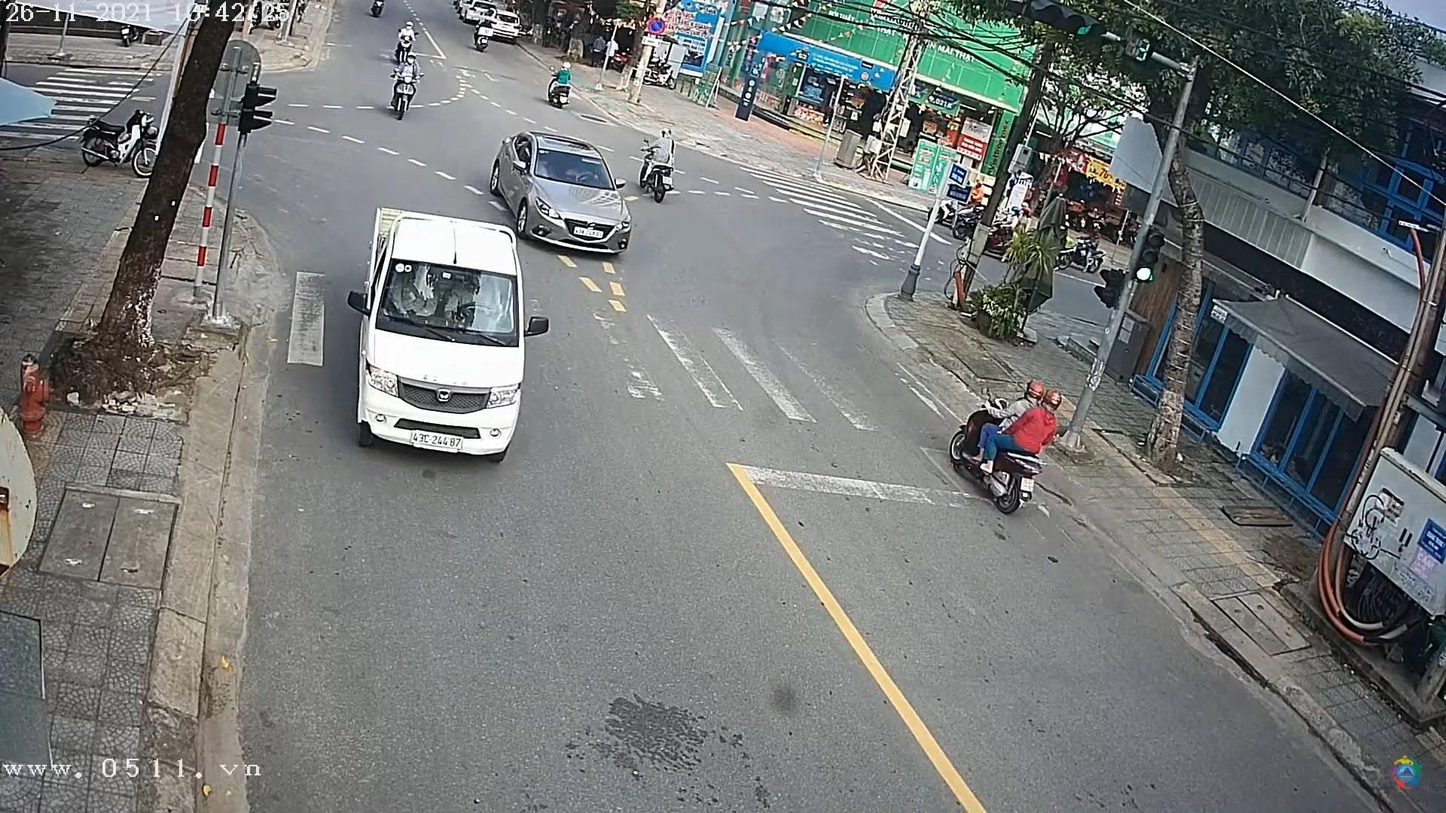car: (488, 135, 640, 258)
motorbike: (951, 400, 1043, 522), (637, 148, 676, 201), (390, 72, 417, 123), (546, 64, 572, 106)
truck: (358, 209, 530, 456)
